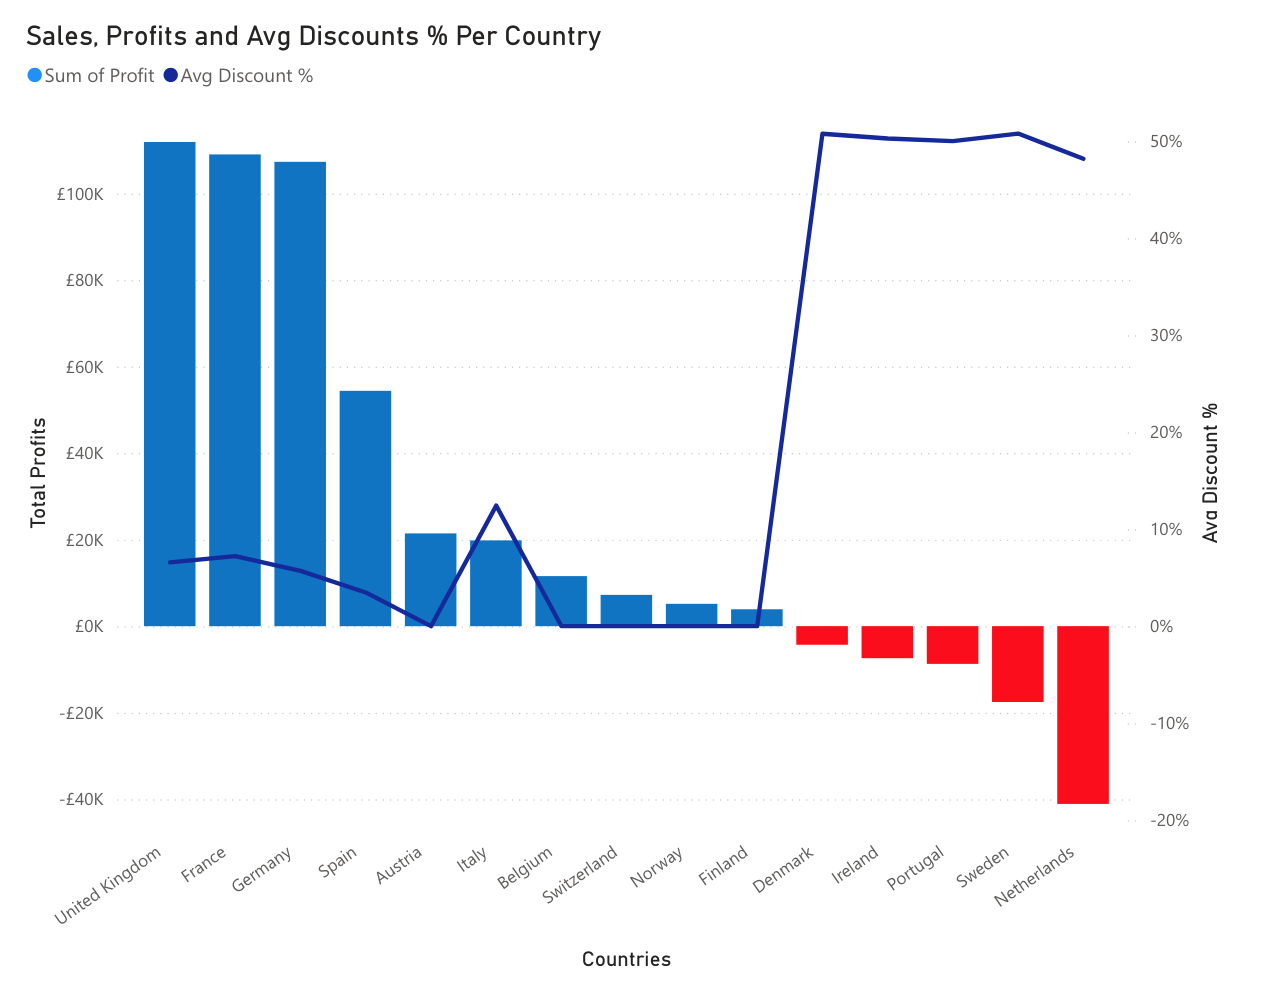

Layout of this report page (visuals, bound fields, positions):
{"tool":"powerbi","page":{"name":"Sales, Discounts and Profits","canvas":[1280,720],"ordinal":1},"visuals":[{"type":"lineClusteredColumnComboChart","title":"Sales, Profits and Avg Discounts % Per Country","fields":{"Category":["EU Superstore 2.Country"],"Y":["Sum(EU Superstore 2.Profit)"],"Y2":["EU Superstore 2.Avg Discount %"]},"box":[0,38,870.1,681.6],"z":1}]}

Visuals, with their boxes on the page's 1280x720 design canvas (x1, y1, x2, y2). These are canvas units, not pixel positions in the 1268x982 screenshot, which may show the page scaled, cropped or inside an application window:
"Sales, Profits and Avg Discounts % Per Country" lineClusteredColumnComboChart: bbox=(0, 38, 870, 720)
